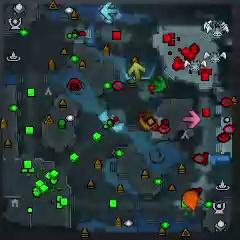p5: (184, 190, 199, 210)
x1: (183, 111, 201, 128)
x2: (127, 63, 145, 81)
x3: (100, 2, 120, 19)
x4: (152, 75, 166, 92)
x5: (139, 113, 157, 130)
